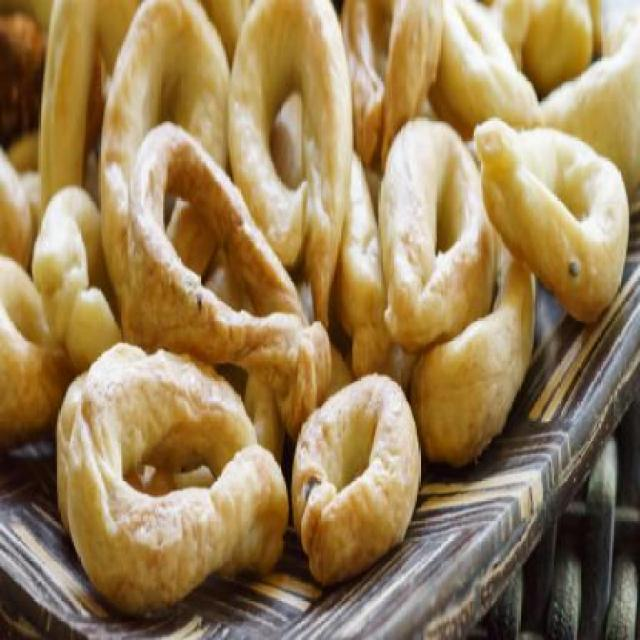Taralli: (4, 20, 630, 592)
